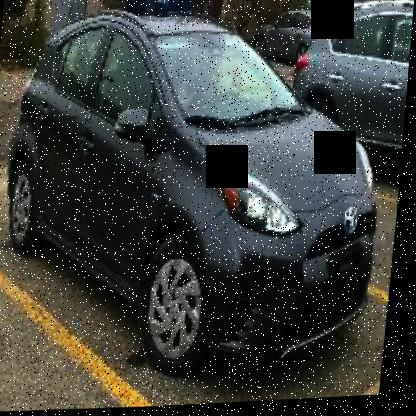not_emergency: (0, 0, 406, 393)
